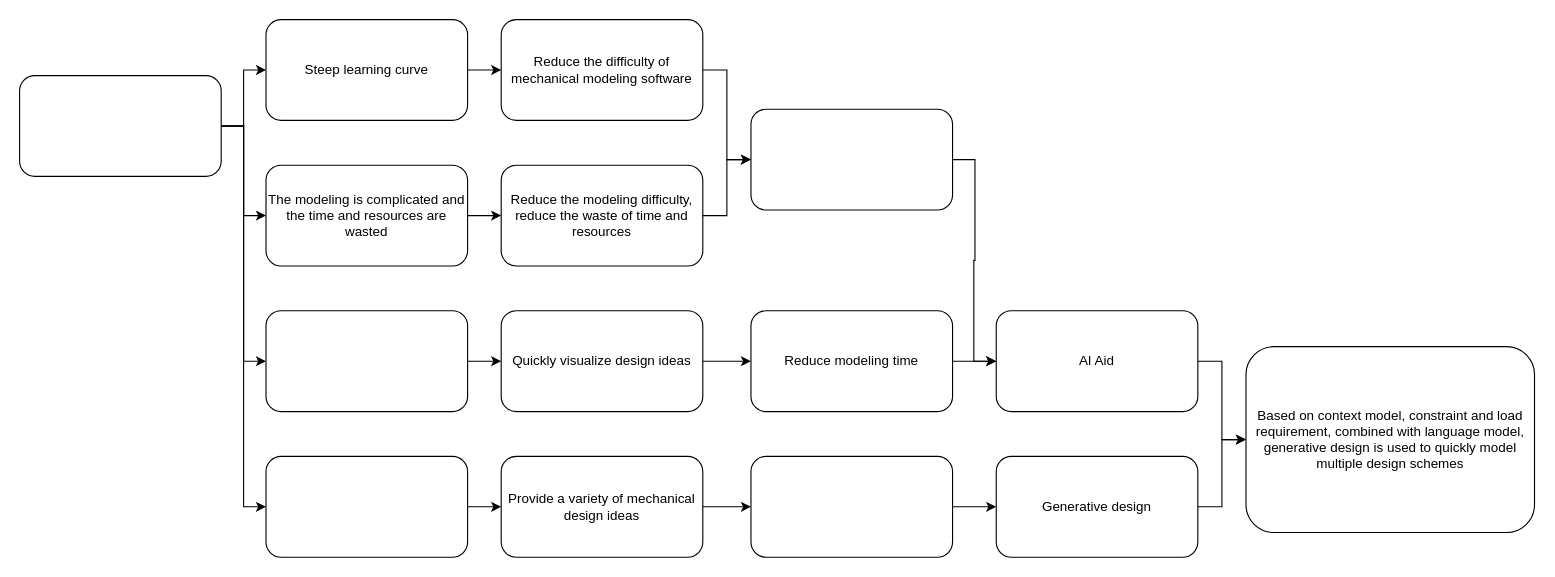
This 1555x577 diagram has some shape labels left out. Here are the shapes that lost their labels. From the top down, the centre of each, then its label:
[119,125]: Mechanical design field
[851,159]: Reduce modeling difficulty
[366,361]: Visualization is difficult which interferes mechanical design ideas
[366,506]: Current CAD software limits the idea of mechanical design
[851,506]: Provide a variety of mechanical design solutions
